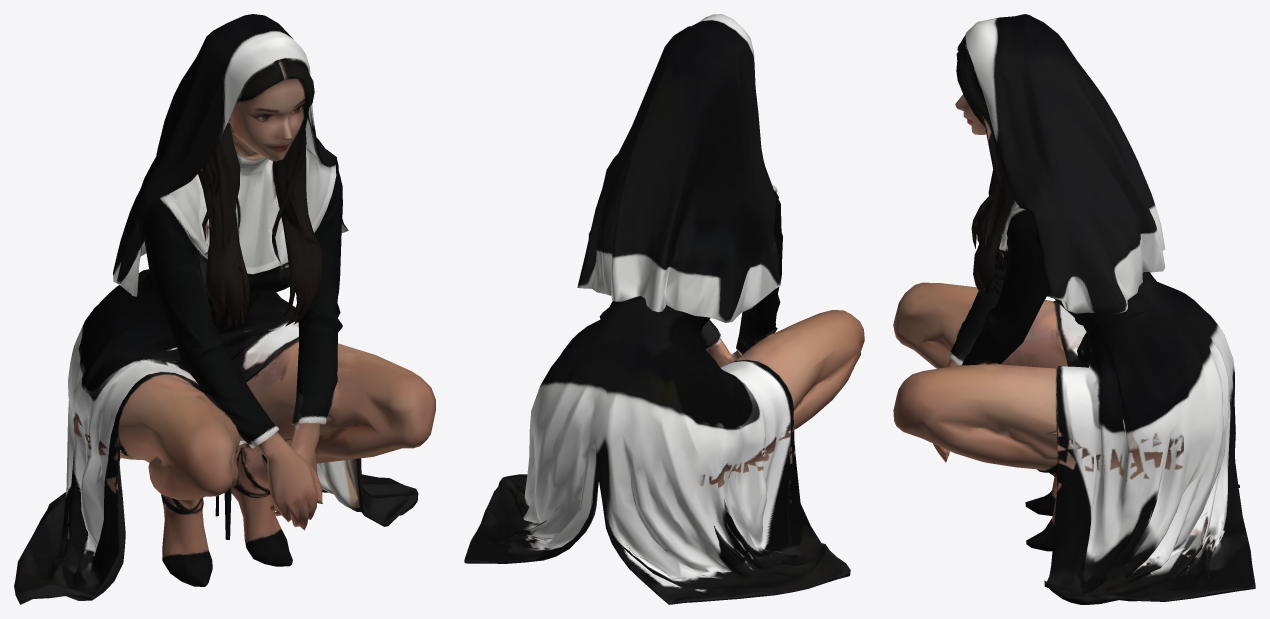
The model's file is nun.glb.
3 renders of one model, left to right at view 1: azimuth 30°, elevation 25°; view 2: azimuth 150°, elevation 25°; view 3: azimuth 270°, elevation 25°, orthographic. The views are drawn at different scales.
Visible parts, largest first — view 1: frame; view 2: frame; view 3: frame.
Part boxes in pixels (x1,y1,x2,y2): frame: [14, 14, 435, 604]; frame: [464, 14, 864, 604]; frame: [893, 14, 1255, 604].
Bounding box in the file's own units: 0.8484 × 1.15 × 0.7401.
1 material, 1 textured.
